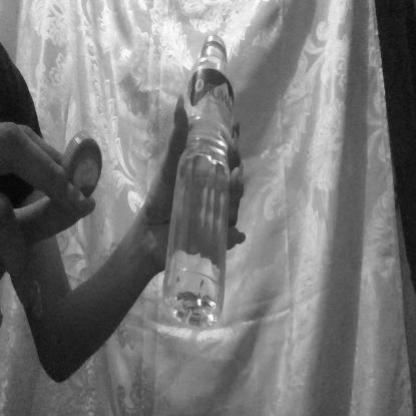Plastic Bottle: (162, 13, 244, 350)
